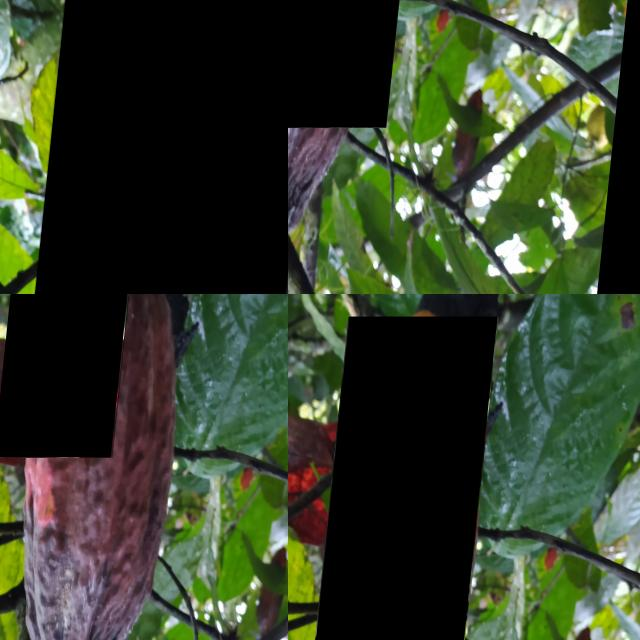Fitoftora: (313, 316, 500, 640)
Monilia: (0, 294, 145, 458)
Sana: (33, 0, 288, 294), (288, 0, 427, 127)
